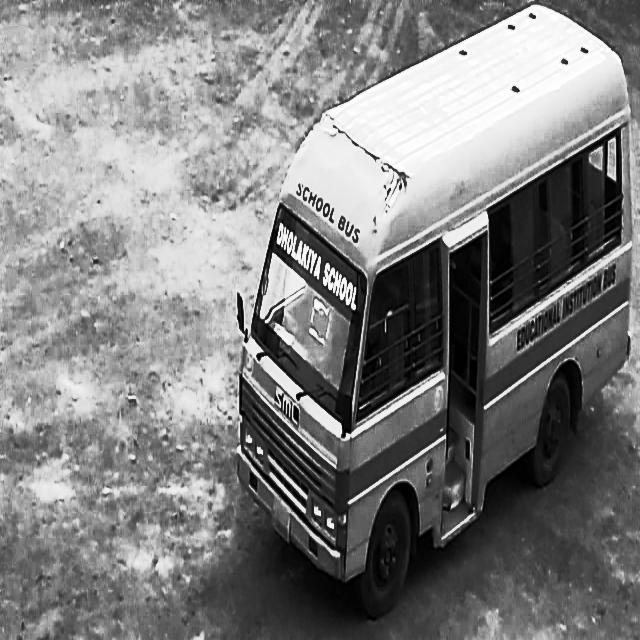Bus: (235, 3, 636, 618)
